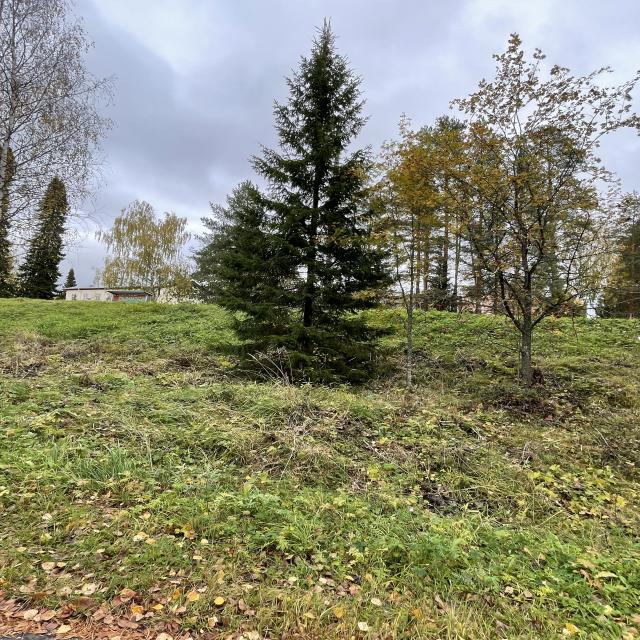spruce: (212, 19, 418, 388), (17, 167, 93, 305)
